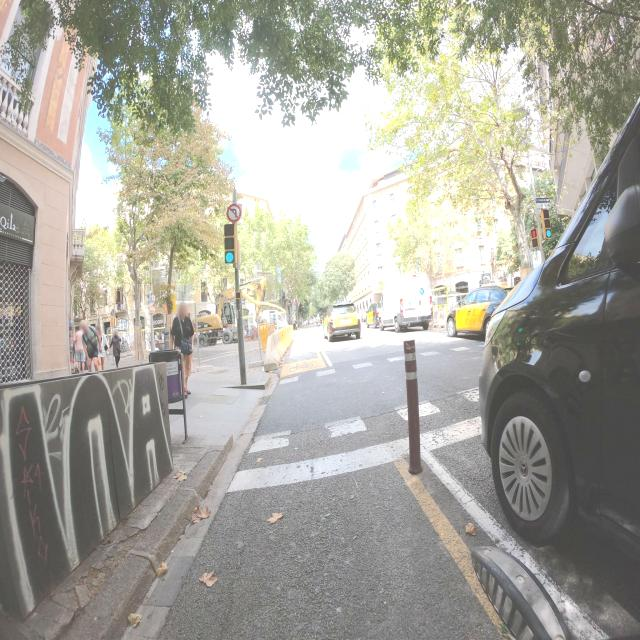car: (445, 282, 514, 340), (323, 300, 361, 342)
